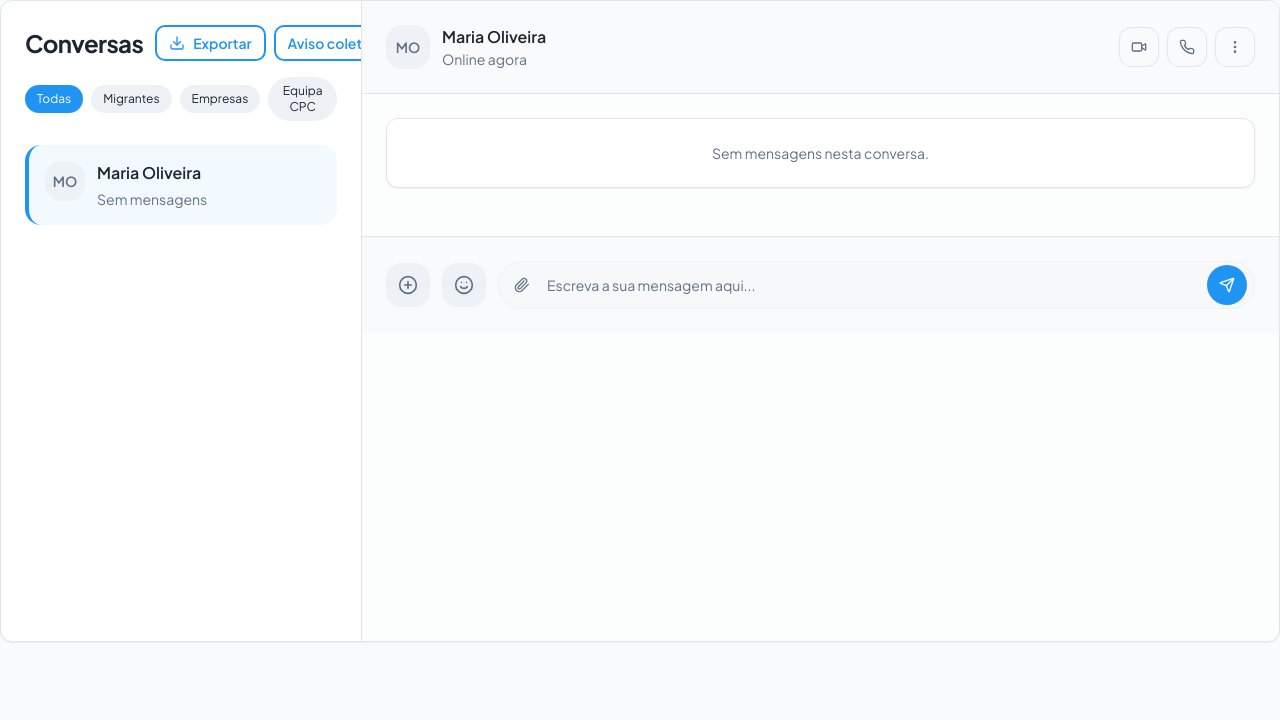
CPCMessagesPage (dashboard/cpc) › envia mensagem e atualiza conversa
In the field with placeholder "Escreva a sua mensagem aqui...": [876, 285] box top-left (498, 261), bottom-right (1255, 309), type "Olá!"
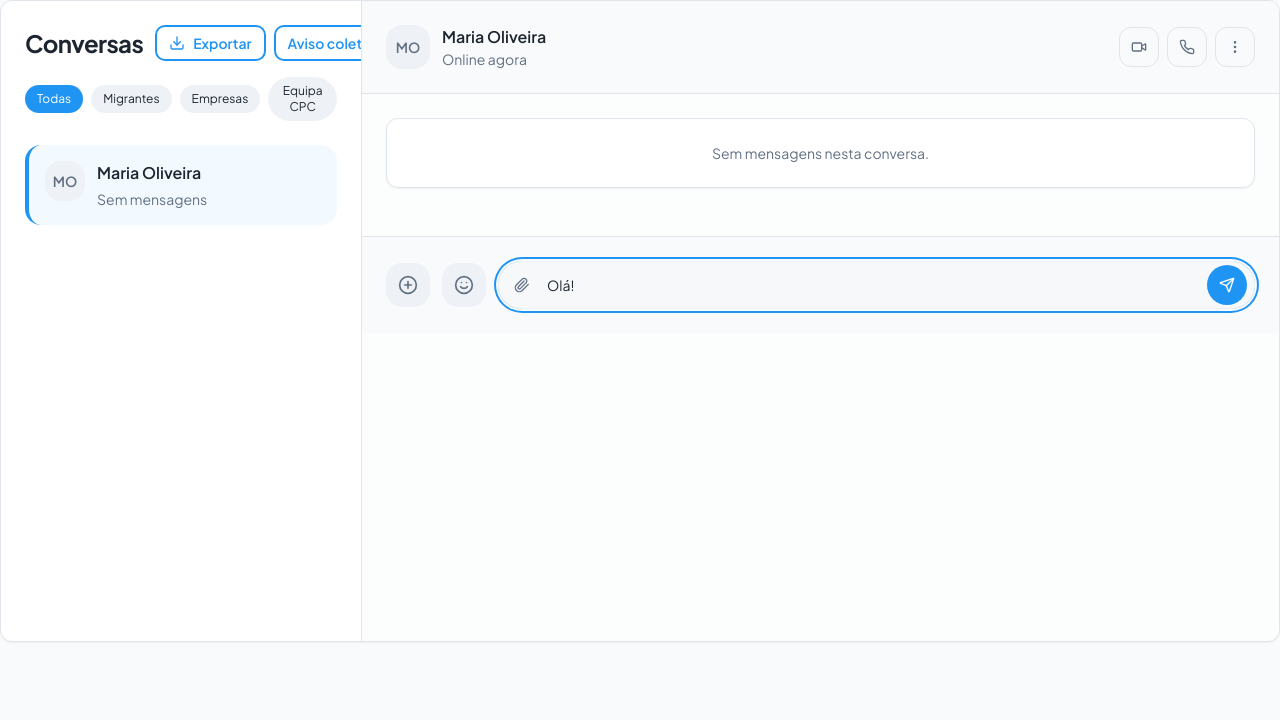
Click the button named "Enviar": [1227, 285] box top-left (1207, 265), bottom-right (1247, 305)
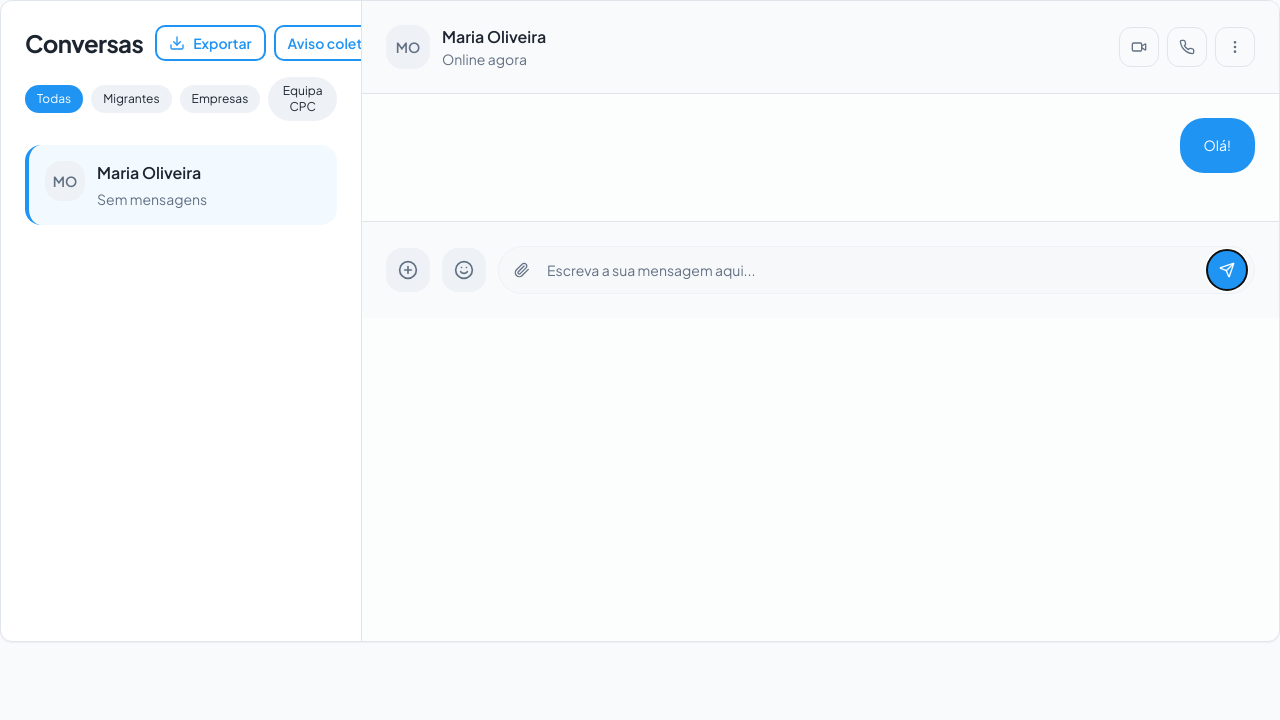
Expected: the text "Olá!" is shown, top-left (1180, 118), bottom-right (1255, 173)
